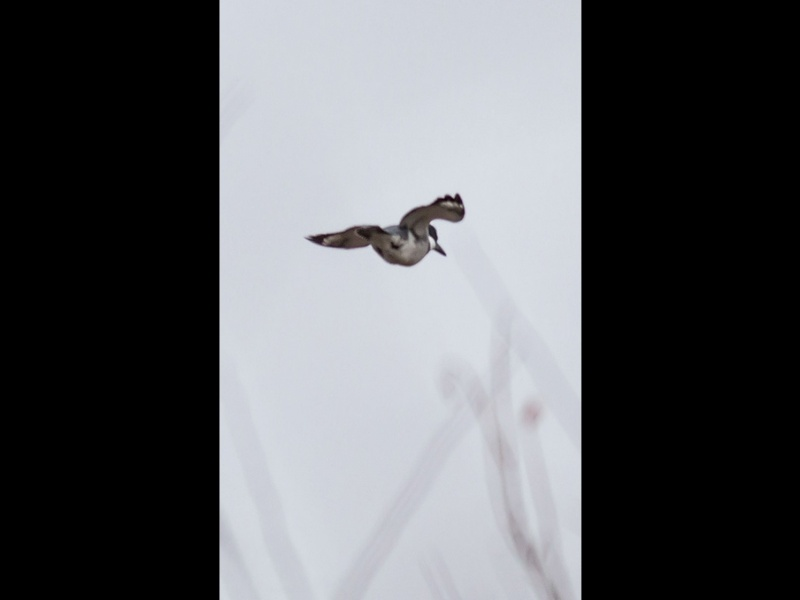kingfisher: (307, 193, 465, 268)
